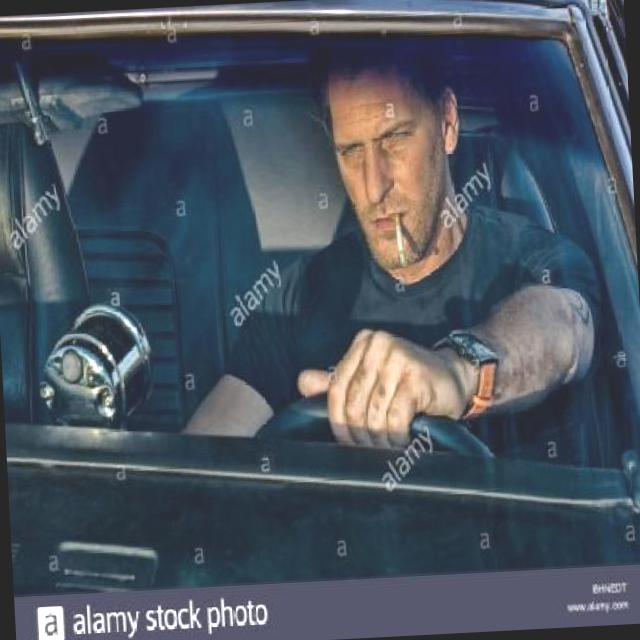smoke: (390, 211, 410, 269)
